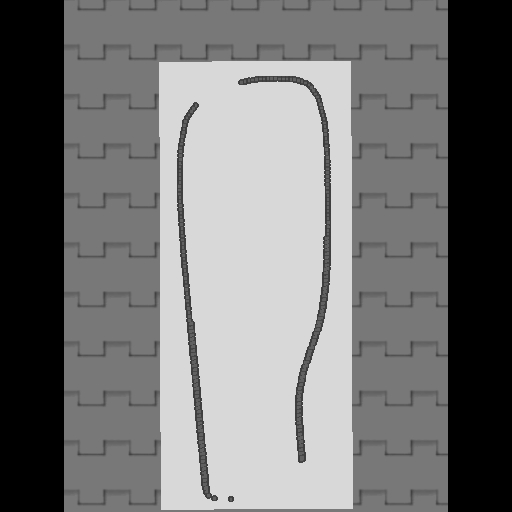Defect: (192, 77, 237, 110)
